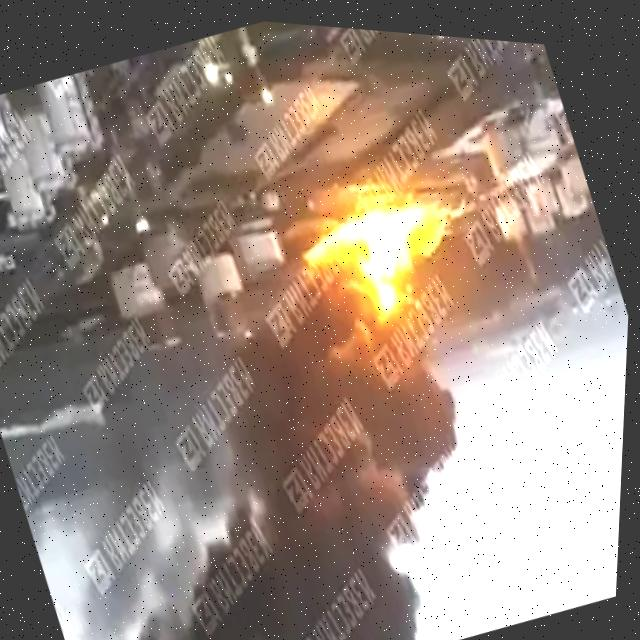Fire: (294, 161, 482, 342)
Smoke: (0, 210, 542, 640)
